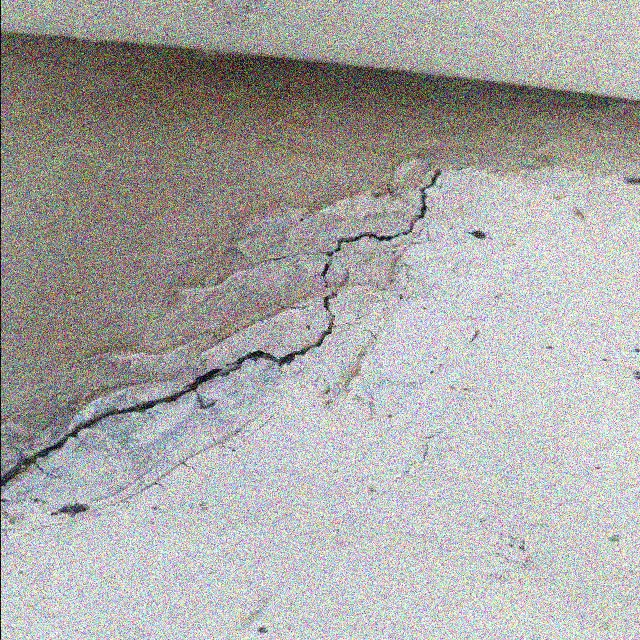SurfaceCrack: (2, 151, 467, 546)
